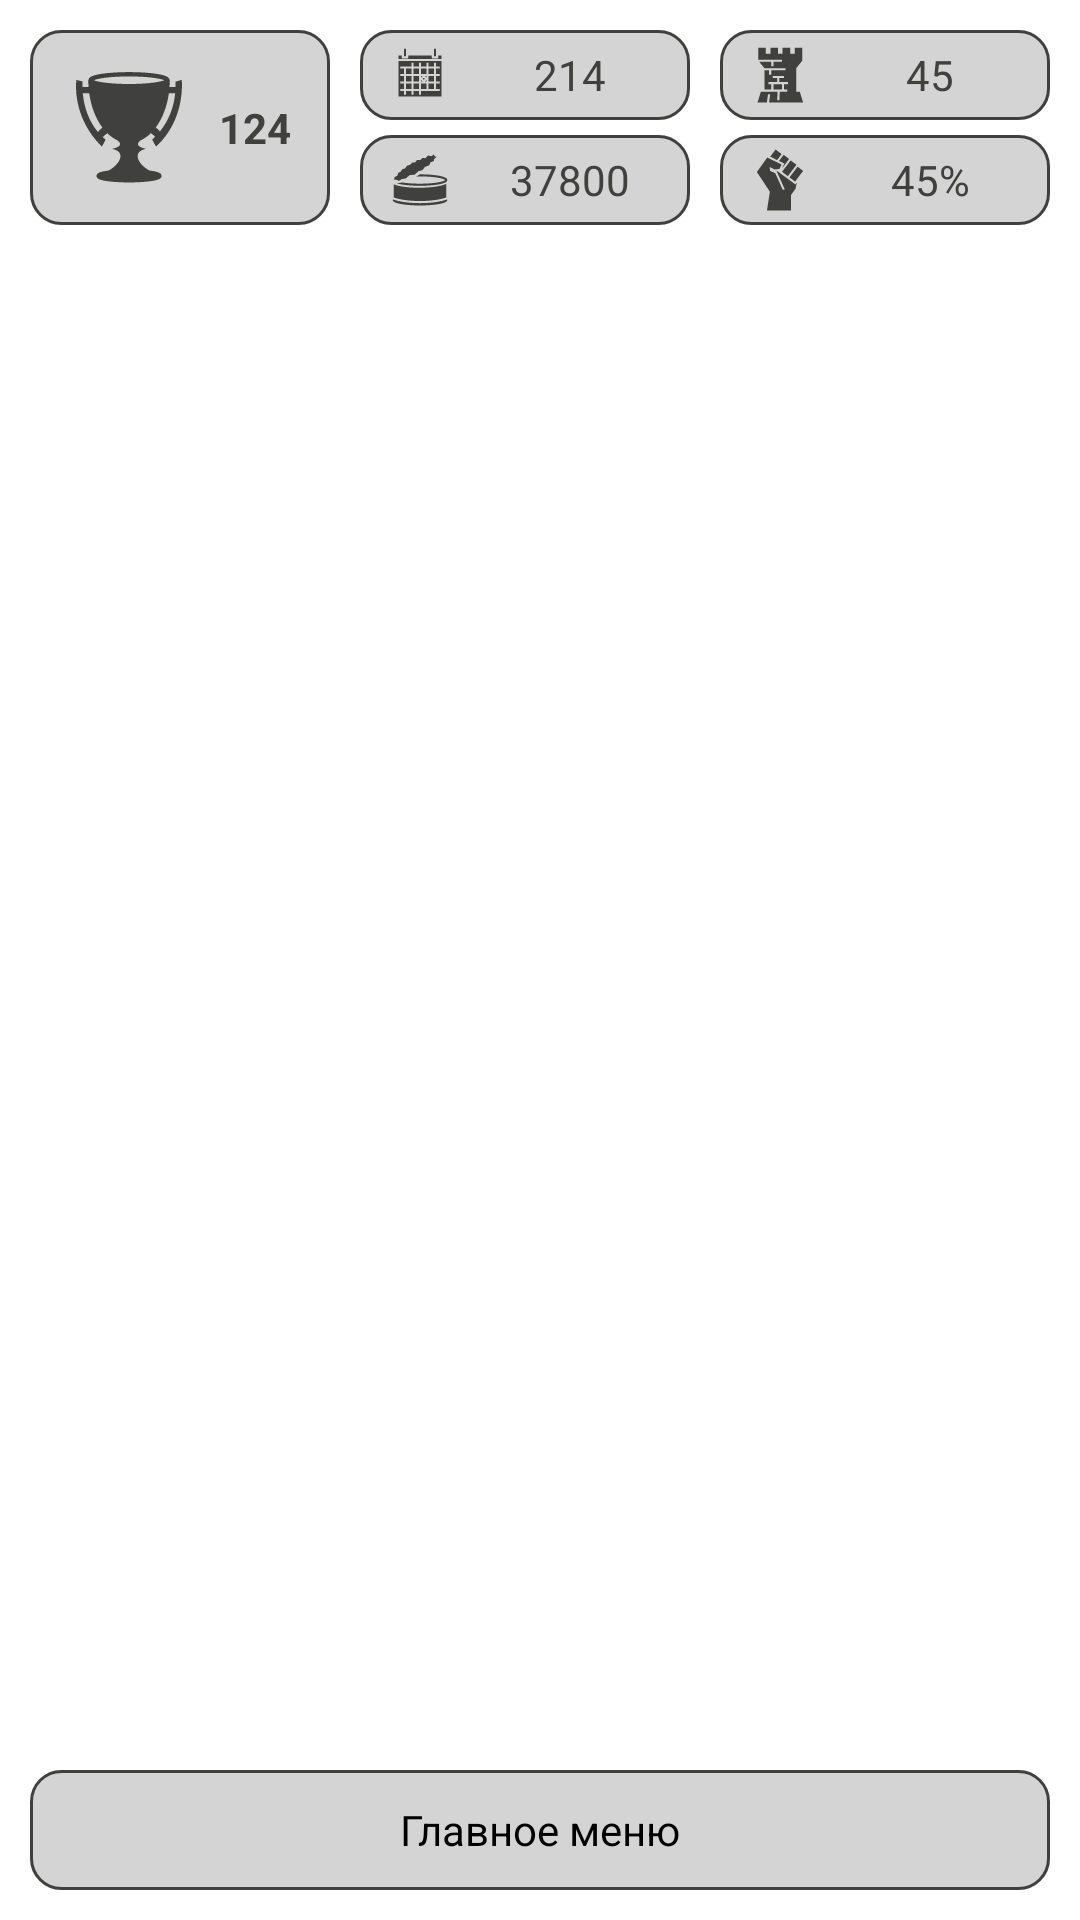

Point at icon controls on the screen. Image size 1080×1920, points as point (x, y).
bottom indicators food: point (420, 180)
top indicators calendar: point (420, 75)
top indicators score: point (129, 127)
